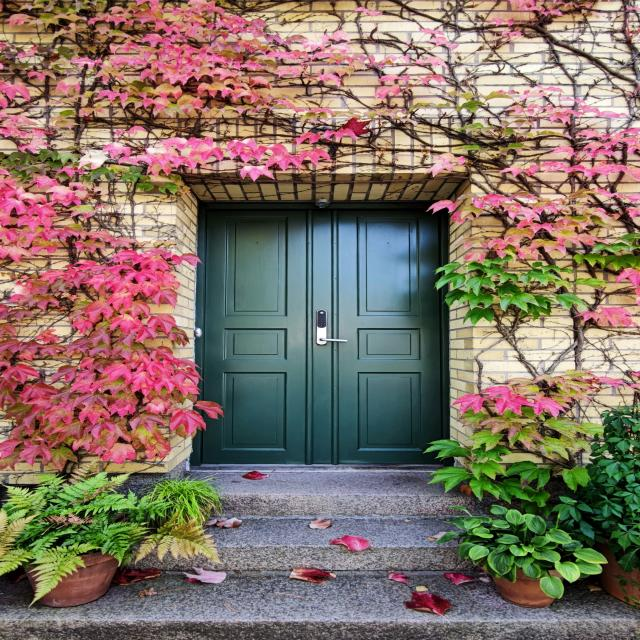door-handle: (320, 338, 349, 342)
